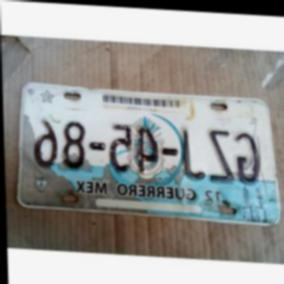License_Plate: (7, 79, 282, 235)
